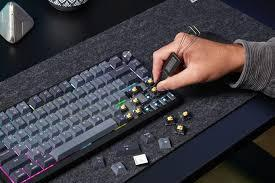keyboard: (0, 49, 183, 182)
